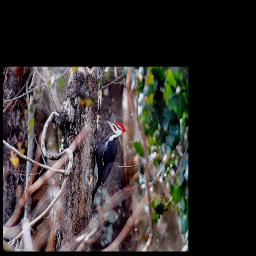Woodpecker: (91, 119, 130, 206)
